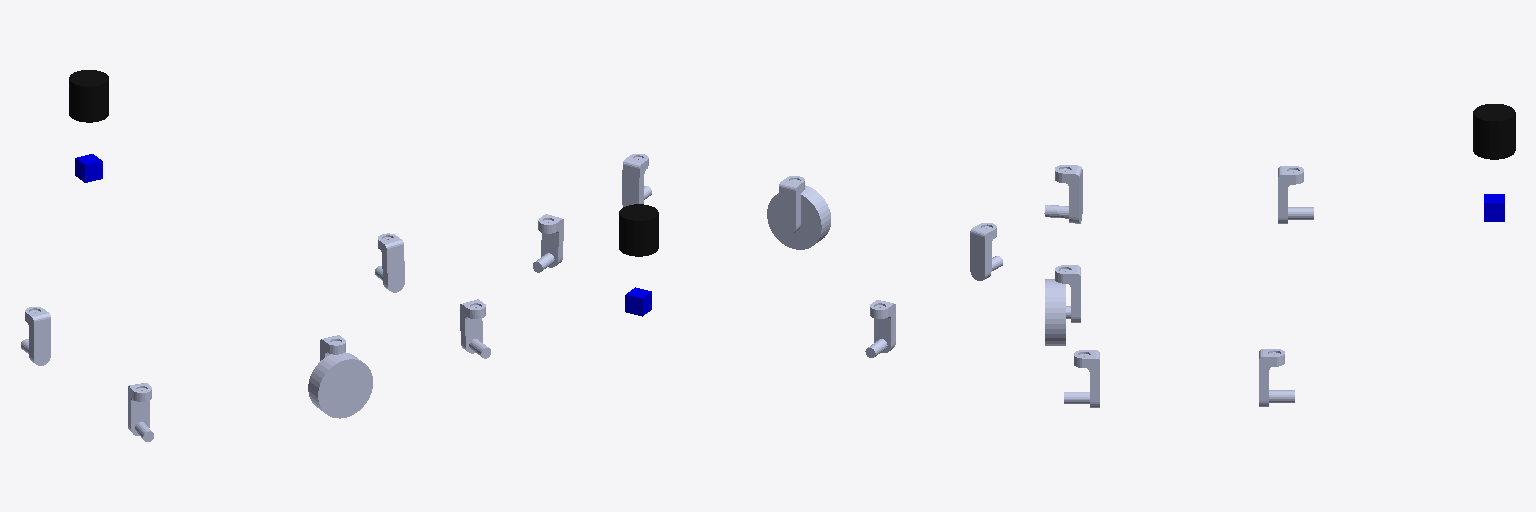
The robot description file, URDF, robot "drive":
<robot name="drive">
  <link name="base_link">
    <inertial>
      <origin xyz="0.0813975388640472 0.349730166585041 0.745233391827634" rpy="0 0 0" />
      <mass value="12.720238406316" />
      <inertia ixx="0.261391224287362" ixy="0.00262186748821055" ixz="1.91697306700848E-16"
               iyy="0.843990123685326" iyz="5.10428306001413E-17" izz="0.664922609272974" />
    </inertial>
    <visual>
      <origin xyz="0 0 0" rpy="0 0 0" />
      <geometry>
        <mesh filename="package://drive/meshes/base.stl" />
      </geometry>
      <material name="">
        <color rgba="0.792156862745098 0.819607843137255 0.933333333333333 1" />
      </material>
    </visual>
    <collision>
      <origin xyz="0 0 0" rpy="0 0 0" />
      <geometry>
        <mesh filename="package://drive/meshes/base.stl" />
      </geometry>
    </collision>
  </link>

  <link name="bogie_front_left">
    <inertial>
      <origin xyz="0.0129852901860572 -3.88578058618805E-16 0.0657298216350096" rpy="0 0 0" />
      <mass value="0.245029467362339" />
      <inertia ixx="0.000481938208354005" ixy="2.91379333855479E-19" ixz="2.30185129071683E-05"
               iyy="0.000539038649100082" iyz="1.60956143365272E-18" izz="0.000142438687060036" />
    </inertial>
    <visual>
      <origin xyz="0 0 0" rpy="0 0 0" />
      <geometry>
        <mesh filename="package://drive/meshes/bogie_front_left.stl" />
      </geometry>
      <material name="">
        <color rgba="0.792156862745098 0.819607843137255 0.933333333333333 1" />
      </material>
    </visual>
    <collision>
      <origin xyz="0 0 0" rpy="0 0 0" />
      <geometry>
        <mesh filename="package://drive/meshes/bogie_front_left.stl" />
      </geometry>
    </collision>
  </link>

  <joint name="bogie_front_left_joint" type="continuous">
    <origin xyz="-0.43217 -1.0151 0" rpy="3.1416 0 1.4079" />
    <parent link="base_link" />
    <child link="bogie_front_left" />
    <axis xyz="0 0 1" />
  </joint>

  <link name="wheel_1">
    <inertial>
      <origin xyz="5.55111512312578E-17 -0.0225000000000002 -4.9960036108132E-16" rpy="0 0 0" />
      <mass value="0.969966731795851" />
      <inertia ixx="0.00180858380199435" ixy="-6.87790753170492E-19" ixz="-3.21872519956634E-20"
               iyy="0.00321301479907376" iyz="-3.52365706057789E-19" izz="0.00180858380199435" />
    </inertial>
    <visual>
      <origin xyz="0 0 0" rpy="0 0 0" />
      <geometry>
        <mesh filename="package://drive/meshes/wheel_1.stl" />
      </geometry>
      <material name="">
        <color rgba="0.792156862745098 0.819607843137255 0.933333333333333 1" />
      </material>
    </visual>
    <collision>
      <origin xyz="0 0 0" rpy="0 0 0" />
      <geometry>
        <mesh filename="package://drive/meshes/wheel_1.stl" />
      </geometry>
    </collision>
  </link>

  <joint name="wheel_1_joint" type="continuous">
    <origin xyz="0 0 0.11198" rpy="3.1416 1.3751 1.5708" />
    <parent link="bogie_front_left" />
    <child link="wheel_1" />
    <axis xyz="0 1 0" />
  </joint>

  <link name="bogie_middle_left">
    <inertial>
      <origin xyz="0.0129852901860572 -2.77555756156289E-17 0.0657298216350098" rpy="0 0 0" />
      <mass value="0.245029467362339" />
      <inertia ixx="0.000481938208354005" ixy="3.57721817984611E-20" ixz="2.30185129071682E-05"
               iyy="0.000539038649100082" iyz="2.20773017023231E-20" izz="0.000142438687060036" />
    </inertial>
    <visual>
      <origin xyz="0 0 0" rpy="0 0 0" />
      <geometry>
        <mesh filename="package://drive/meshes/bogie_middle_left.stl" />
      </geometry>
      <material name="">
        <color rgba="0.792156862745098 0.819607843137255 0.933333333333333 1" />
      </material>
    </visual>
    <collision>
      <origin xyz="0 0 0" rpy="0 0 0" />
      <geometry>
        <mesh filename="package://drive/meshes/bogie_middle_left.stl" />
      </geometry>
    </collision>
  </link>

  <joint name="bogie_middle_left_joint" type="continuous">
    <origin xyz="0.13025 -1.0151 0" rpy="-3.1416 0 1.5708" />
    <parent link="base_link" />
    <child link="bogie_middle_left" />
    <axis xyz="0 0 1" />
  </joint>

  <link name="wheel_2">
    <inertial>
      <origin xyz="-2.77555756156289E-17 -0.0225000000000002 0" rpy="0 0 0" />
      <mass value="0.969966731795849" />
      <inertia ixx="0.00180858380199434" ixy="7.49357438781787E-20" ixz="0"
               iyy="0.00321301479907375" iyz="-6.58844981459226E-21" izz="0.00180858380199434" />
    </inertial>
    <visual>
      <origin xyz="0 0 0" rpy="0 0 0" />
      <geometry>
        <mesh filename="package://drive/meshes/wheel_2.stl" />
      </geometry>
      <material name="">
        <color rgba="0.792156862745098 0.819607843137255 0.933333333333333 1" />
      </material>
    </visual>
    <collision>
      <origin xyz="0 0 0" rpy="0 0 0" />
      <geometry>
        <mesh filename="package://drive/meshes/wheel_2.stl" />
      </geometry>
    </collision>
  </link>

  <joint name="wheel_2_joint" type="continuous">
    <origin xyz="0 0 0.111977638143316" rpy="0 0 -1.5708" />
    <parent link="bogie_middle_left" />
    <child link="wheel_2" />
    <axis xyz="0 1 0" />
  </joint>

  <link name="rocker_left">
    <inertial>
      <origin xyz="0.0129852911708225 1.11022302462516E-16 0.0661603898916332" rpy="0 0 0" />
      <mass value="0.245029467362339" />
      <inertia ixx="0.000481938209039244" ixy="4.07634570525163E-21" ixz="2.30185078538829E-05"
               iyy="0.000539038649100083" iyz="-4.63750538921162E-20" izz="0.000142438686374797" />
    </inertial>
    <visual>
      <origin xyz="0 0 0" rpy="0 0 0" />
      <geometry>
        <mesh filename="package://drive/meshes/rocker_left.stl" />
      </geometry>
      <material name="">
        <color rgba="0.792156862745098 0.819607843137255 0.933333333333333 1" />
      </material>
    </visual>
    <collision>
      <origin xyz="0 0 0" rpy="0 0 0" />
      <geometry>
        <mesh filename="package://drive/meshes/rocker_left.stl" />
      </geometry>
    </collision>
  </link>

  <joint name="rocker_left_joint" type="continuous">
    <origin xyz="0.56095 -0.97013 -0.019803" rpy="3.1158 0 1.5708" />
    <parent link="base_link" />
    <child link="rocker_left" />
    <axis xyz="0 0 1" />
  </joint>

  <link name="wheel_3">
    <inertial>
      <origin xyz="-2.22044604925031E-16 0.0225 1.60982338570648E-15" rpy="0 0 0" />
      <mass value="0.969966731795849" />
      <inertia ixx="0.00180858380199434" ixy="-1.7309010163403E-19" ixz="0"
               iyy="0.00321301479907375" iyz="-1.01193372727594E-19" izz="0.00180858380199434" />
    </inertial>
    <visual>
      <origin xyz="0 0 0" rpy="0 0 0" />
      <geometry>
        <mesh filename="package://drive/meshes/wheel_3.stl" />
      </geometry>
      <material name="">
        <color rgba="0.792156862745098 0.819607843137255 0.933333333333333 1" />
      </material>
    </visual>
    <collision>
      <origin xyz="0 0 0" rpy="0 0 0" />
      <geometry>
        <mesh filename="package://drive/meshes/wheel_3.stl" />
      </geometry>
    </collision>
  </link>

  <joint name="wheel_3_joint" type="continuous">
    <origin xyz="0 0 0.112408206593219" rpy="0 0 1.5708" />
    <parent link="rocker_left" />
    <child link="wheel_3" />
    <axis xyz="0 1 0" />
  </joint>

  <link name="bogie_front_right">
    <inertial>
      <origin xyz="0.0129852901860573 -1.11022302462516E-16 0.0662521834916939" rpy="0 0 0" />
      <mass value="0.245029467362339" />
      <inertia ixx="0.000481938208354006" ixy="-2.62275912106055E-20" ixz="2.30185129071678E-05"
               iyy="0.000539038649100083" iyz="3.50614081294898E-19" izz="0.000142438687060036" />
    </inertial>
    <visual>
      <origin xyz="0 0 0" rpy="0 0 0" />
      <geometry>
        <mesh filename="package://drive/meshes/bogie_front_right.stl" />
      </geometry>
      <material name="">
        <color rgba="0.792156862745098 0.819607843137255 0.933333333333333 1" />
      </material>
    </visual>
    <collision>
      <origin xyz="0 0 0" rpy="0 0 0" />
      <geometry>
        <mesh filename="package://drive/meshes/bogie_front_right.stl" />
      </geometry>
    </collision>
  </link>

  <joint name="bogie_front_right_joint" type="continuous">
    <origin xyz="-0.43066 -0.47513 -0.0023177" rpy="3.1416 0 -1.5708" />
    <parent link="base_link" />
    <child link="bogie_front_right" />
    <axis xyz="0 0 1" />
  </joint>

  <link name="wheel_4">
    <inertial>
      <origin xyz="1.66533453693773E-16 -0.0225 -1.11022302462516E-16" rpy="0 0 0" />
      <mass value="0.969966731795849" />
      <inertia ixx="0.00180858380199434" ixy="-4.01879759813685E-19" ixz="0"
               iyy="0.00321301479907375" iyz="-6.68853722148441E-20" izz="0.00180858380199434" />
    </inertial>
    <visual>
      <origin xyz="0 0 0" rpy="0 0 0" />
      <geometry>
        <mesh filename="package://drive/meshes/wheel_4.stl" />
      </geometry>
      <material name="">
        <color rgba="0.792156862745098 0.819607843137255 0.933333333333333 1" />
      </material>
    </visual>
    <collision>
      <origin xyz="0 0 0" rpy="0 0 0" />
      <geometry>
        <mesh filename="package://drive/meshes/wheel_4.stl" />
      </geometry>
    </collision>
  </link>

  <joint name="wheel_4_joint" type="continuous">
    <origin xyz="0 0 0.1125" rpy="0 0 -1.5708" />
    <parent link="bogie_front_right" />
    <child link="wheel_4" />
    <axis xyz="0 1 0" />
  </joint>

  <link name="bogie_middle_right">
    <inertial>
      <origin xyz="0.0129852891007725 0.0414537955768247 0.0516810862683572" rpy="0 0 0" />
      <mass value="0.245029467362338" />
      <inertia ixx="0.000481938207599867" ixy="1.44026196203906E-05" ixz="1.79559667118559E-05"
               iyy="0.000383771035147503" iyz="-0.000193574527611515" izz="0.000297706301766753" />
    </inertial>
    <visual>
      <origin xyz="0 0 0" rpy="0 0 0" />
      <geometry>
        <mesh filename="package://drive/meshes/bogie_middle_right.stl" />
      </geometry>
      <material name="">
        <color rgba="0.792156862745098 0.819607843137255 0.933333333333333 1" />
      </material>
    </visual>
    <collision>
      <origin xyz="0 0 0" rpy="0 0 0" />
      <geometry>
        <mesh filename="package://drive/meshes/bogie_middle_right.stl" />
      </geometry>
    </collision>
  </link>

  <joint name="bogie_middle_right_joint" type="continuous">
    <origin xyz="0.13176 -0.47513 -0.0023177" rpy="-2.4656 0 -1.5708" />
    <parent link="base_link" />
    <child link="bogie_middle_right" />
    <axis xyz="0 0.6257 0.78007" />
  </joint>

  <link name="wheel_5">
    <inertial>
      <origin xyz="-1.11022302462516E-16 -0.0225 -2.77555756156289E-16" rpy="0 0 0" />
      <mass value="0.969966731795849" />
      <inertia ixx="0.00180858380199434" ixy="-7.7153903575784E-20" ixz="-1.62630325872826E-19"
               iyy="0.00321301479907375" iyz="-4.01591574199174E-20" izz="0.00180858380199434" />
    </inertial>
    <visual>
      <origin xyz="0 0 0" rpy="0 0 0" />
      <geometry>
        <mesh filename="package://drive/meshes/wheel_5.stl" />
      </geometry>
      <material name="">
        <color rgba="0.792156862745098 0.819607843137255 0.933333333333333 1" />
      </material>
    </visual>
    <collision>
      <origin xyz="0 0 0" rpy="0 0 0" />
      <geometry>
        <mesh filename="package://drive/meshes/wheel_5.stl" />
      </geometry>
    </collision>
  </link>

  <joint name="wheel_5_joint" type="continuous">
    <origin xyz="0 0.0703909178023914 0.0877574423677957" rpy="0 0 -1.5708" />
    <parent link="bogie_middle_right" />
    <child link="wheel_5" />
    <axis xyz="0 1 0" />
  </joint>

  <link name="rocker_right">
    <inertial>
      <origin xyz="0.0129852901860573 -0.0049569707122793 0.0658721019855867" rpy="0 0 0" />
      <mass value="0.245029467362339" />
      <inertia ixx="0.000481938208354006" ixy="-1.72729257204929E-06" ixz="2.29536140254208E-05"
               iyy="0.000536805437098068" iyz="2.96766669183117E-05" izz="0.000144671899062051" />
    </inertial>
    <visual>
      <origin xyz="0 0 0" rpy="0 0 0" />
      <geometry>
        <mesh filename="package://drive/meshes/rocker_right.stl" />
      </geometry>
      <material name="">
        <color rgba="0.792156862745098 0.819607843137255 0.933333333333333 1" />
      </material>
    </visual>
    <collision>
      <origin xyz="0 0 0" rpy="0 0 0" />
      <geometry>
        <mesh filename="package://drive/meshes/rocker_right.stl" />
      </geometry>
    </collision>
  </link>

  <joint name="rocker_right_joint" type="continuous">
    <origin xyz="0.565118575030691 -0.520131514258346 -0.0143396560229379" rpy="3.10403771392678 0 -1.5708" />
    <parent link="base_link" />
    <child link="rocker_right" />
    <axis xyz="0 0.075039277255456 -0.997180578866726" />
  </joint>

  <link name="wheel_6">
    <inertial>
      <origin xyz="-2.22044604925031E-16 0.0225 -1.11022302462516E-16" rpy="0 0 0" />
      <mass value="0.969966731795848" />
      <inertia ixx="0.00180858380199434" ixy="-3.00981713702323E-20" ixz="0"
               iyy="0.00321301479907375" iyz="2.86816342322797E-20" izz="0.00180858380199434" />
    </inertial>
    <visual>
      <origin xyz="0 0 0" rpy="0 0 0" />
      <geometry>
        <mesh filename="package://drive/meshes/wheel_6.stl" />
      </geometry>
      <material name="">
        <color rgba="0.792156862745098 0.819607843137255 0.933333333333333 1" />
      </material>
    </visual>
    <collision>
      <origin xyz="0 0 0" rpy="0 0 0" />
      <geometry>
        <mesh filename="package://drive/meshes/wheel_6.stl" />
      </geometry>
    </collision>
  </link>

  <joint name="wheel_6_joint" type="continuous">
    <origin xyz="0 -0.00842737343770561 0.111989526422662" rpy="3.1416 -0.6966 -1.5708" />
    <parent link="rocker_right" />
    <child link="wheel_6" />
    <axis xyz="0 1 0" />
  </joint>

  <!-- =================================================== -->
  <!-- Added Sensor Definitions -->
  <!-- =================================================== -->

  <!-- LIDAR Sensor -->
<link name="lidar">
  <visual>
    <geometry>
      <cylinder radius="0.05" length="0.1"/>
    </geometry>
    <material>
      <color rgba="0.1 0.1 0.1 1"/>
    </material>
  </visual>
  <collision>
    <geometry>
      <cylinder radius="0.05" length="0.1"/>
    </geometry>
  </collision>
  <inertial>
    <mass value="0.5"/>
    <origin xyz="0 0 0" rpy="0 0 0"/>
    <inertia 
      ixx="0.001" ixy="0.0" ixz="0.0"
      iyy="0.001" iyz="0.0"
      izz="0.001"/>
  </inertial>
</link>

<joint name="lidar_joint" type="fixed">
  <parent link="base_link"/>
  <child link="lidar"/>
  <origin xyz="0 0 0.3" rpy="0 0 0"/>
</joint>


  <!-- IMU Sensor -->
  <link name="imu_link">
    <inertial>
      <origin xyz="0 0 0" rpy="0 0 0"/>
      <mass value="0.2"/>
      <inertia ixx="0.0001" ixy="0" ixz="0" iyy="0.0001" iyz="0" izz="0.0001"/>
    </inertial>
    <visual>
      <origin xyz="0 0 0" rpy="0 0 0"/>
      <geometry>
        <box size="0.05 0.05 0.05"/>
      </geometry>
      <material name="">
        <color rgba="0 0 1 1"/>
      </material>
    </visual>
    <collision>
      <origin xyz="0 0 0" rpy="0 0 0"/>
      <geometry>
        <box size="0.05 0.05 0.05"/>
      </geometry>
    </collision>
  </link>

  <joint name="imu_joint" type="fixed">
    <parent link="base_link"/>
    <child link="imu_link"/>
    <origin xyz="0 0 0.1" rpy="0 0 0"/>
  </joint>
</robot>

--- Render facts (derived) ---
The picture shows the robot from 3 angles, left to right: view 1: azimuth 30°, elevation 25°; view 2: azimuth 150°, elevation 25°; view 3: azimuth 270°, elevation 25°; orthographic projection.
Model drive with 15 links and 14 joints (12 continuous, 2 fixed), rooted at base_link, posed every joint at zero.
Visible links, largest first — view 1: wheel_2, lidar, rocker_right, bogie_front_right, rocker_left, bogie_front_left, imu_link, bogie_middle_left; view 2: wheel_2, lidar, bogie_front_left, bogie_front_right, rocker_right, bogie_middle_left, rocker_left, imu_link; view 3: lidar, wheel_2, bogie_front_left, bogie_front_right, rocker_right, rocker_left, bogie_middle_left, imu_link.
Boxes of the visible links, <box> form: wheel_2: <box>308,352,372,418</box>; lidar: <box>69,70,108,122</box>; rocker_right: <box>375,233,404,292</box>; bogie_front_right: <box>21,307,50,365</box>; rocker_left: <box>460,299,490,358</box>; bogie_front_left: <box>128,383,153,441</box>; imu_link: <box>75,154,102,182</box>; bogie_middle_left: <box>320,335,350,393</box>; wheel_2: <box>767,185,830,249</box>; lidar: <box>619,204,658,256</box>; bogie_front_left: <box>970,223,1002,280</box>; bogie_front_right: <box>865,300,895,357</box>; rocker_right: <box>533,214,563,272</box>; bogie_middle_left: <box>779,176,804,234</box>; rocker_left: <box>622,154,651,206</box>; imu_link: <box>625,287,651,316</box>; lidar: <box>1473,104,1515,159</box>; wheel_2: <box>1045,279,1065,345</box>; bogie_front_left: <box>1044,165,1082,223</box>; bogie_front_right: <box>1278,166,1313,223</box>; rocker_right: <box>1259,349,1294,406</box>; rocker_left: <box>1064,350,1099,407</box>; bogie_middle_left: <box>1055,265,1080,322</box>; imu_link: <box>1484,194,1504,221</box>.
Bounding box of the posed robot: 1.05 × 1.11 × 0.542 m (x, y, z).
Meshes: 13 distinct files referenced, 6 mesh visuals loaded (6 binary STL); not drawn: 7 (reference not matched to a file when rendering).